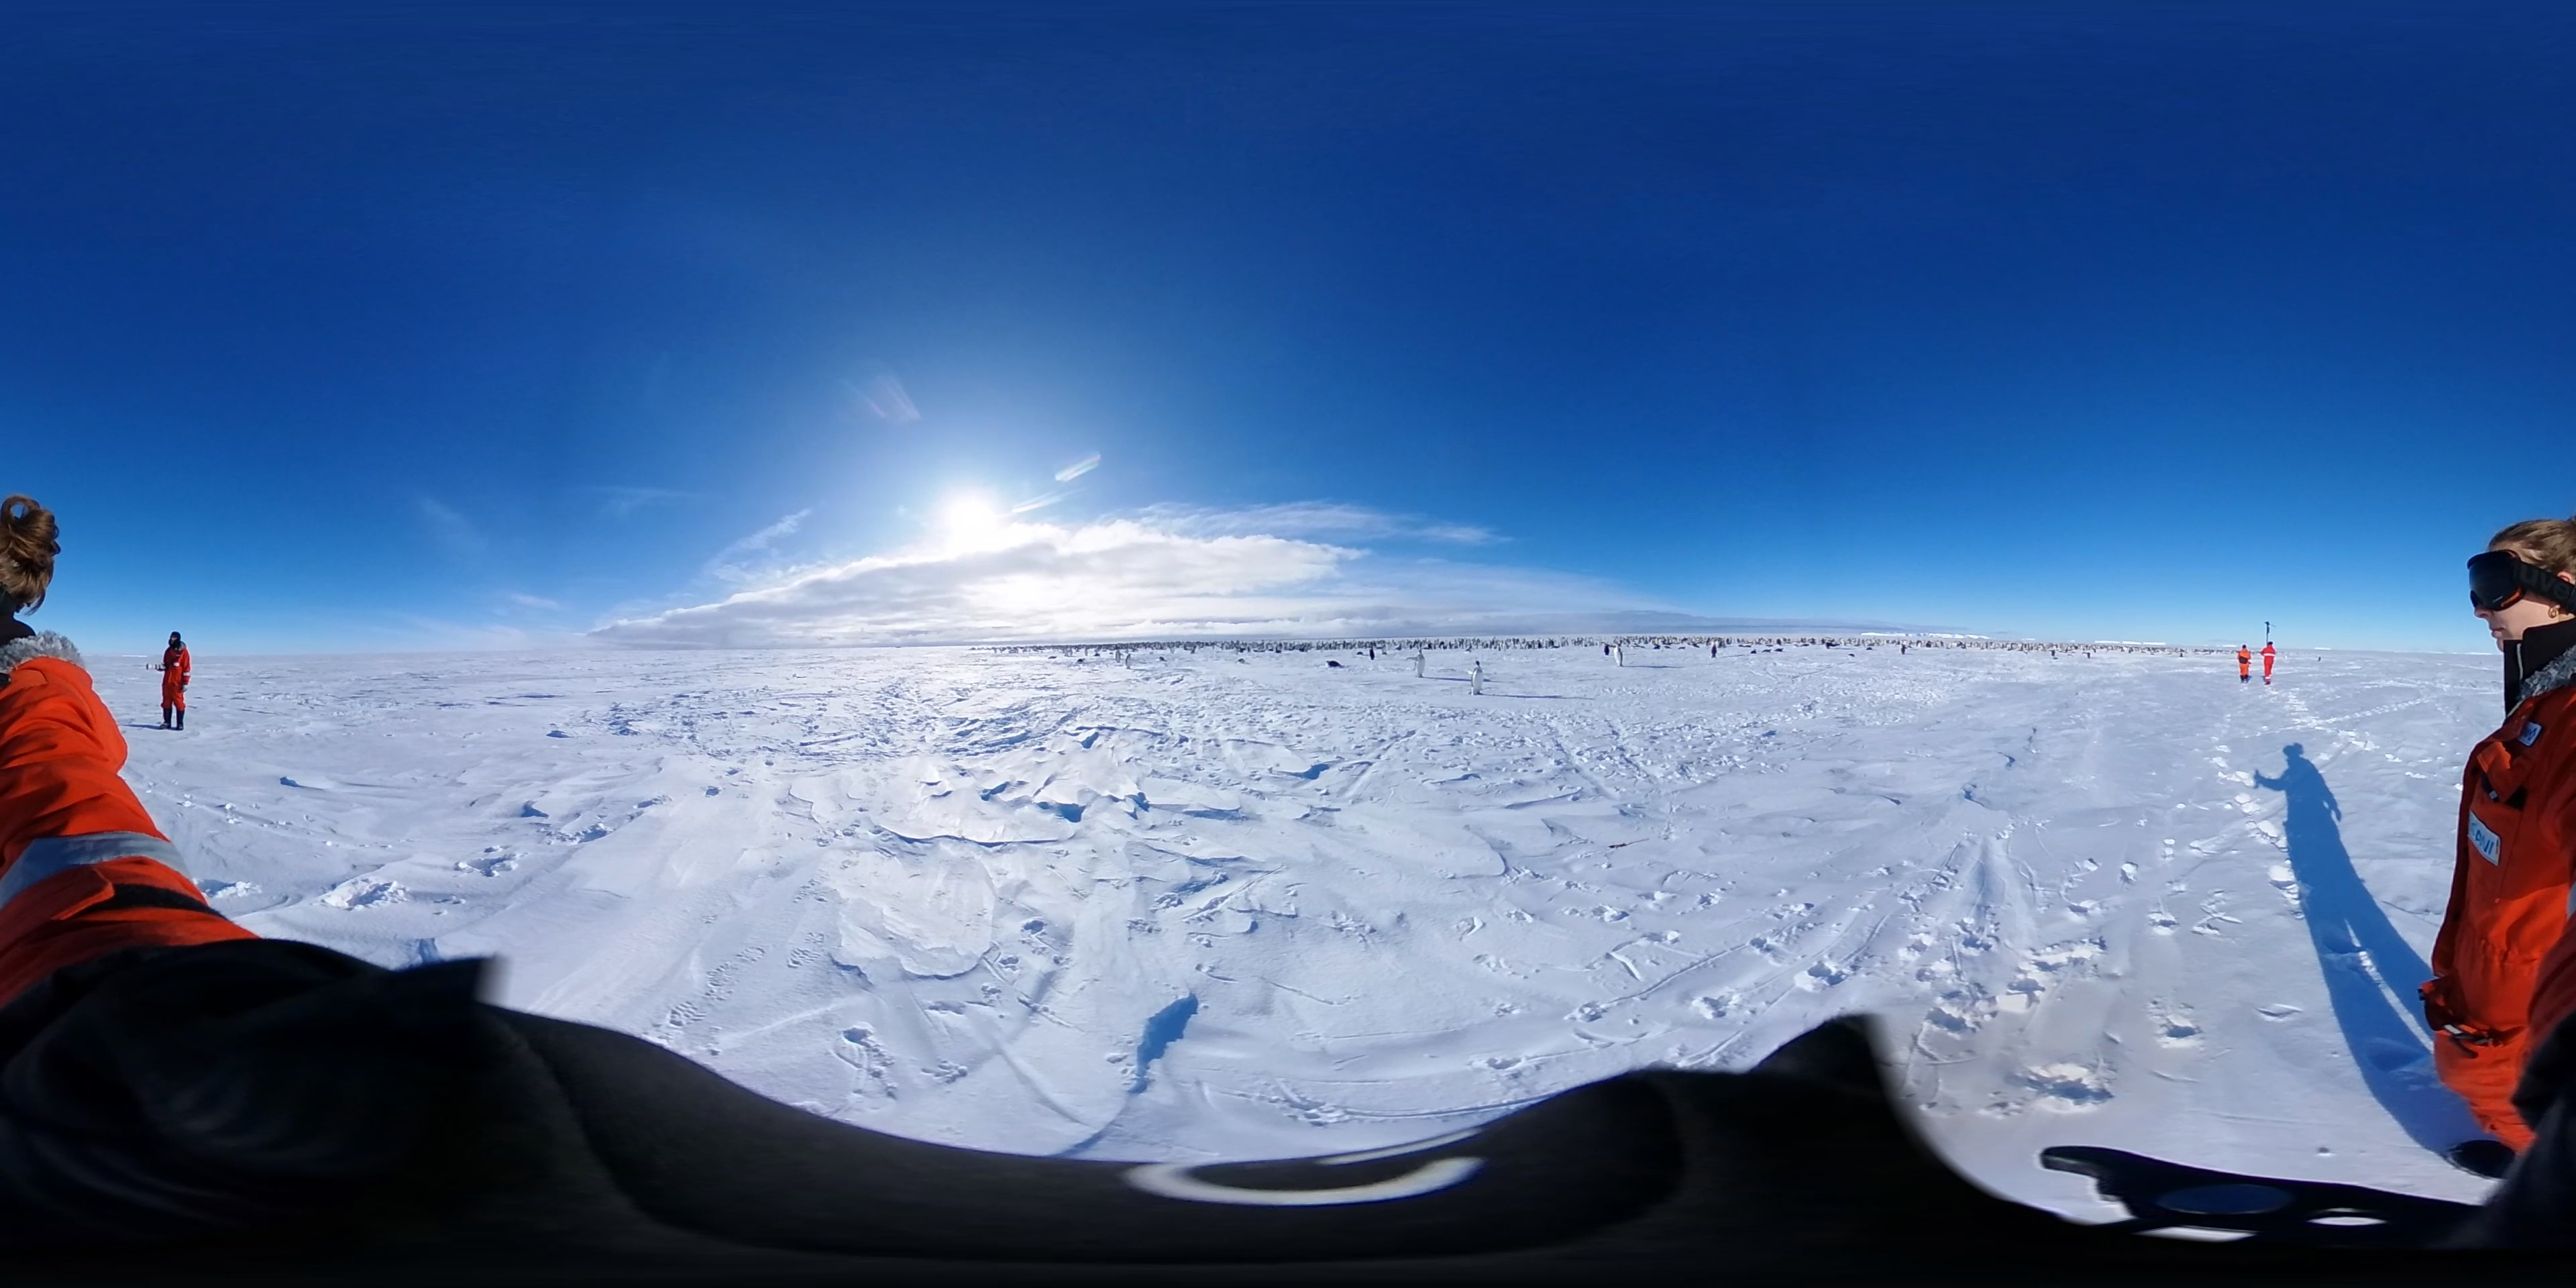adult_standing_penguin: (1469, 659, 1488, 698), (1410, 647, 1431, 680), (1612, 641, 1625, 672)
adult_toboggan_penguin: (1324, 659, 1342, 672)
researcher: (0, 611, 263, 1028), (2448, 513, 2576, 1028), (161, 631, 189, 733), (2261, 639, 2279, 685), (2236, 644, 2251, 687)
